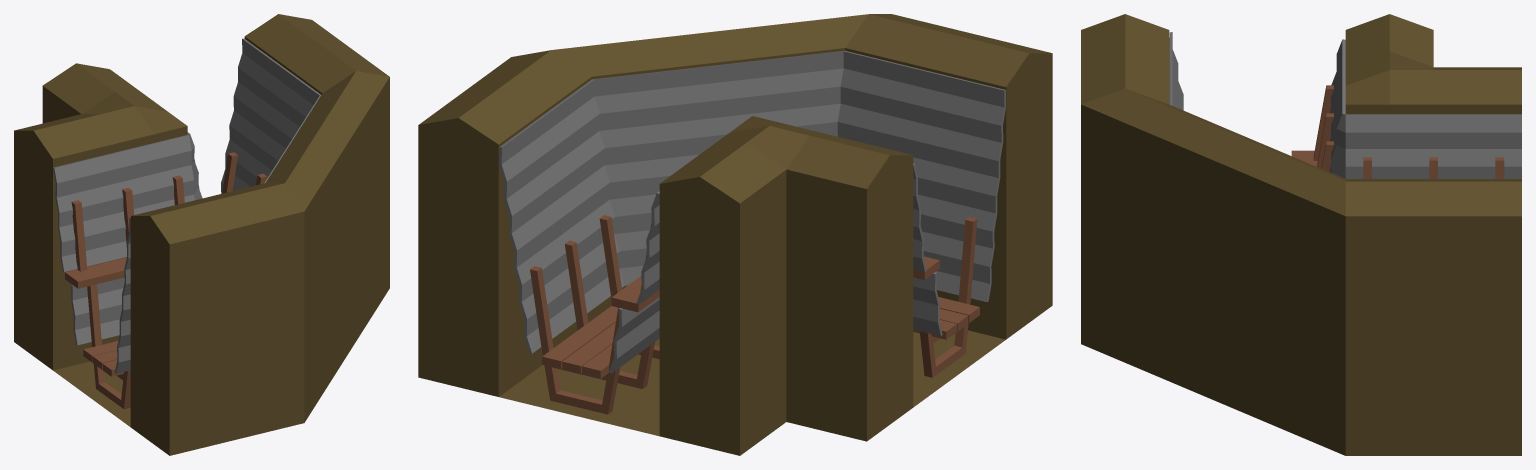
Rendered from Trench Corner.fbx.
3 views of the same model, side by side, from view 1: azimuth 30°, elevation 25°; view 2: azimuth 150°, elevation 25°; view 3: azimuth 270°, elevation 25° (orthographic). The views are drawn at different scales.
Parts seen in each view (by area): view 1: Trench Dirt Corner, Trench Corner; view 2: Trench Dirt Corner, Trench Corner; view 3: Trench Dirt Corner, Trench Corner.
Part boxes in pixels (x1=…): Trench Dirt Corner: x1=14, y1=14, x2=389, y2=455; Trench Corner: x1=53, y1=38, x2=320, y2=409; Trench Dirt Corner: x1=418, y1=14, x2=1052, y2=455; Trench Corner: x1=498, y1=50, x2=1005, y2=414; Trench Dirt Corner: x1=1081, y1=14, x2=1521, y2=455; Trench Corner: x1=1169, y1=32, x2=1521, y2=178.
Size of the model in its own units: 2500 by 1600 by 2500.
